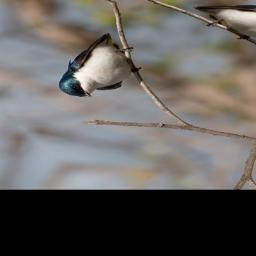Swallow: (22, 30, 166, 102)
